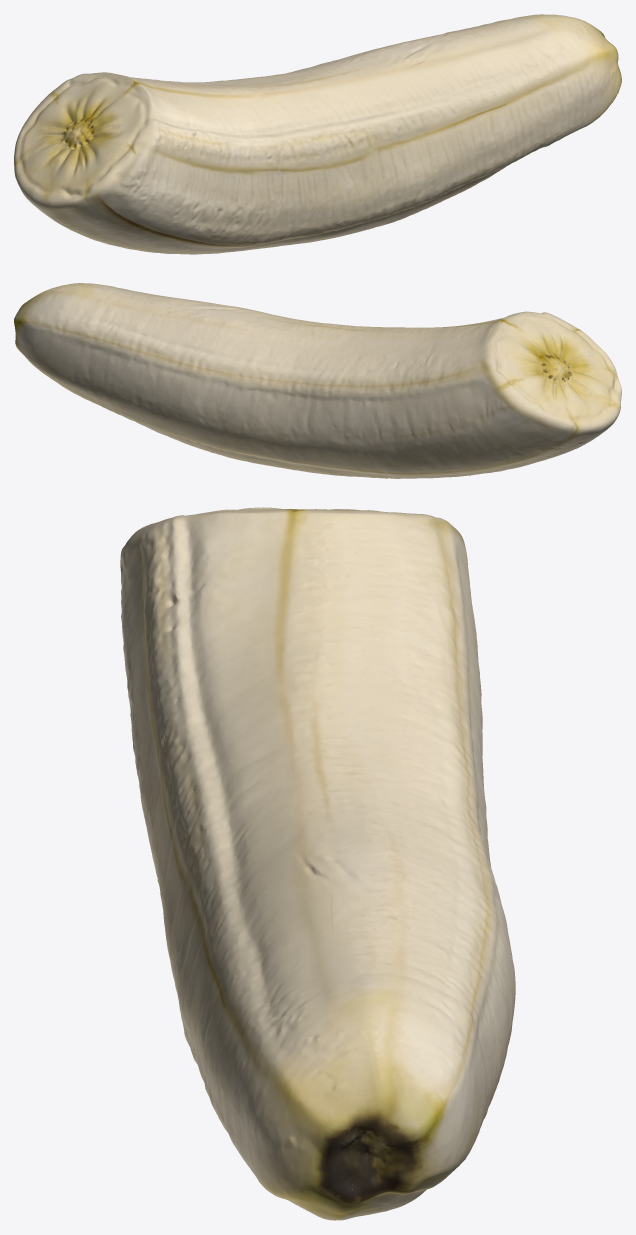
The model's file is Meshy_AI_Banana_0604072620_texture.fbx.
3 views of the same model, one above another, from view 1: azimuth 30°, elevation 25°; view 2: azimuth 150°, elevation 25°; view 3: azimuth 270°, elevation 25° (orthographic). The views are drawn at different scales.
Parts seen in each view (by area): view 1: Mesh_0; view 2: Mesh_0; view 3: Mesh_0.
Boxes of the visible parts, x1,y1,x2,y2 form: Mesh_0: (14, 14, 621, 254); Mesh_0: (14, 283, 621, 478); Mesh_0: (120, 507, 515, 1220).
Size of the model in its own units: 190 by 60.85 by 57.52.
Materials: 1 (1 with a texture image).
